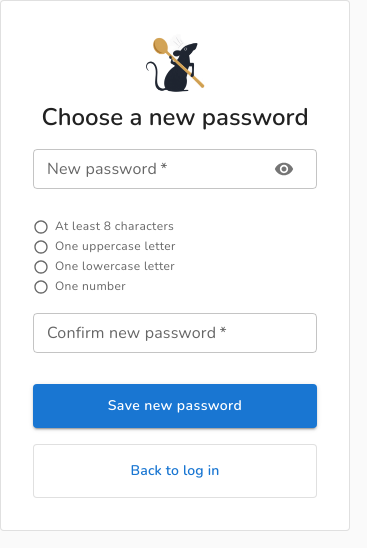
ResetPasswordForm Component › password rules › should ask for a password when the field is empty
The width and height of the screenshot is (367, 548).
Click the button "Save new password" at (175, 406), box [33,384,317,428]
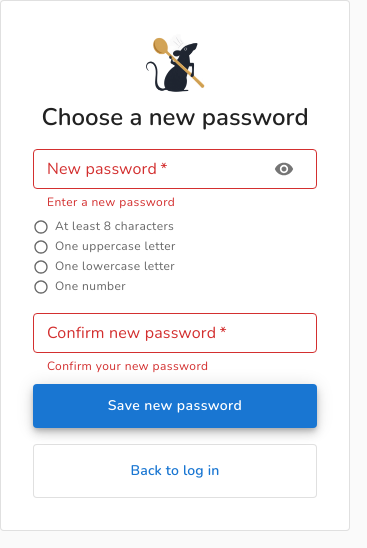
Expected: the text "Enter a new password" is shown, [47,194,175,210]
Expected: the text "Confirm your new password" is shown, [47,358,208,374]
